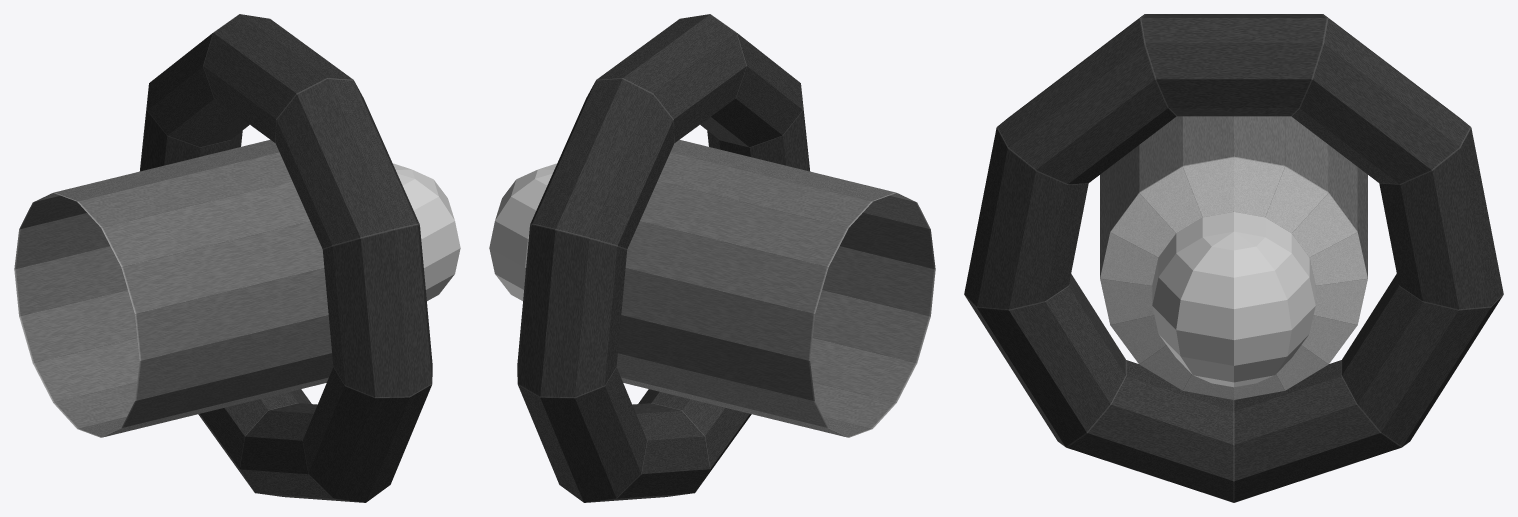
Rendered from energy_beam_receiver.obj.
3 views of the same model, side by side, from view 1: azimuth 30°, elevation 25°; view 2: azimuth 150°, elevation 25°; view 3: azimuth 270°, elevation 25° (orthographic). The views are drawn at different scales.
Parts seen in each view (by area): view 1: Main, Ring, Receiver; view 2: Main, Ring, Receiver; view 3: Ring, Main, Receiver.
Boxes of the visible parts, x1,y1,x2,y2 form: Main: (14,139,333,437); Ring: (139,14,432,502); Receiver: (393,163,460,300); Main: (616,139,935,437); Ring: (517,14,810,502); Receiver: (489,163,556,300); Ring: (964,14,1503,502); Main: (1100,116,1367,399); Receiver: (1152,212,1315,387).
Size of the model in its own units: 0.689 by 0.7895 by 0.8017.
